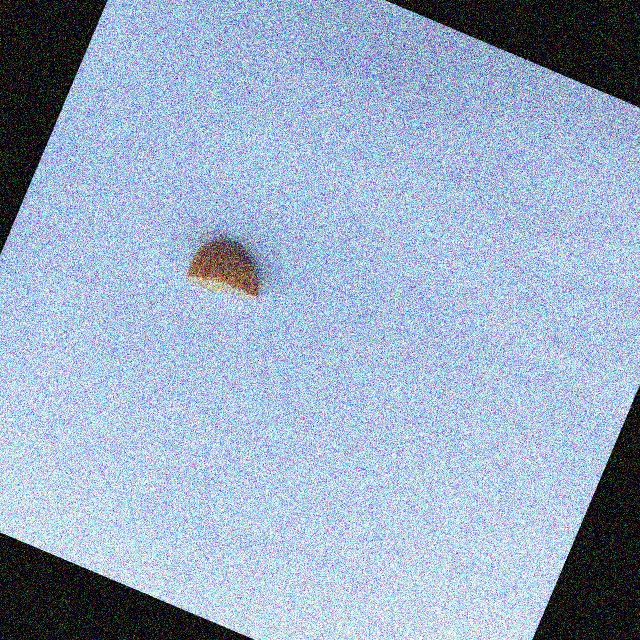grade4: (176, 224, 284, 317)
